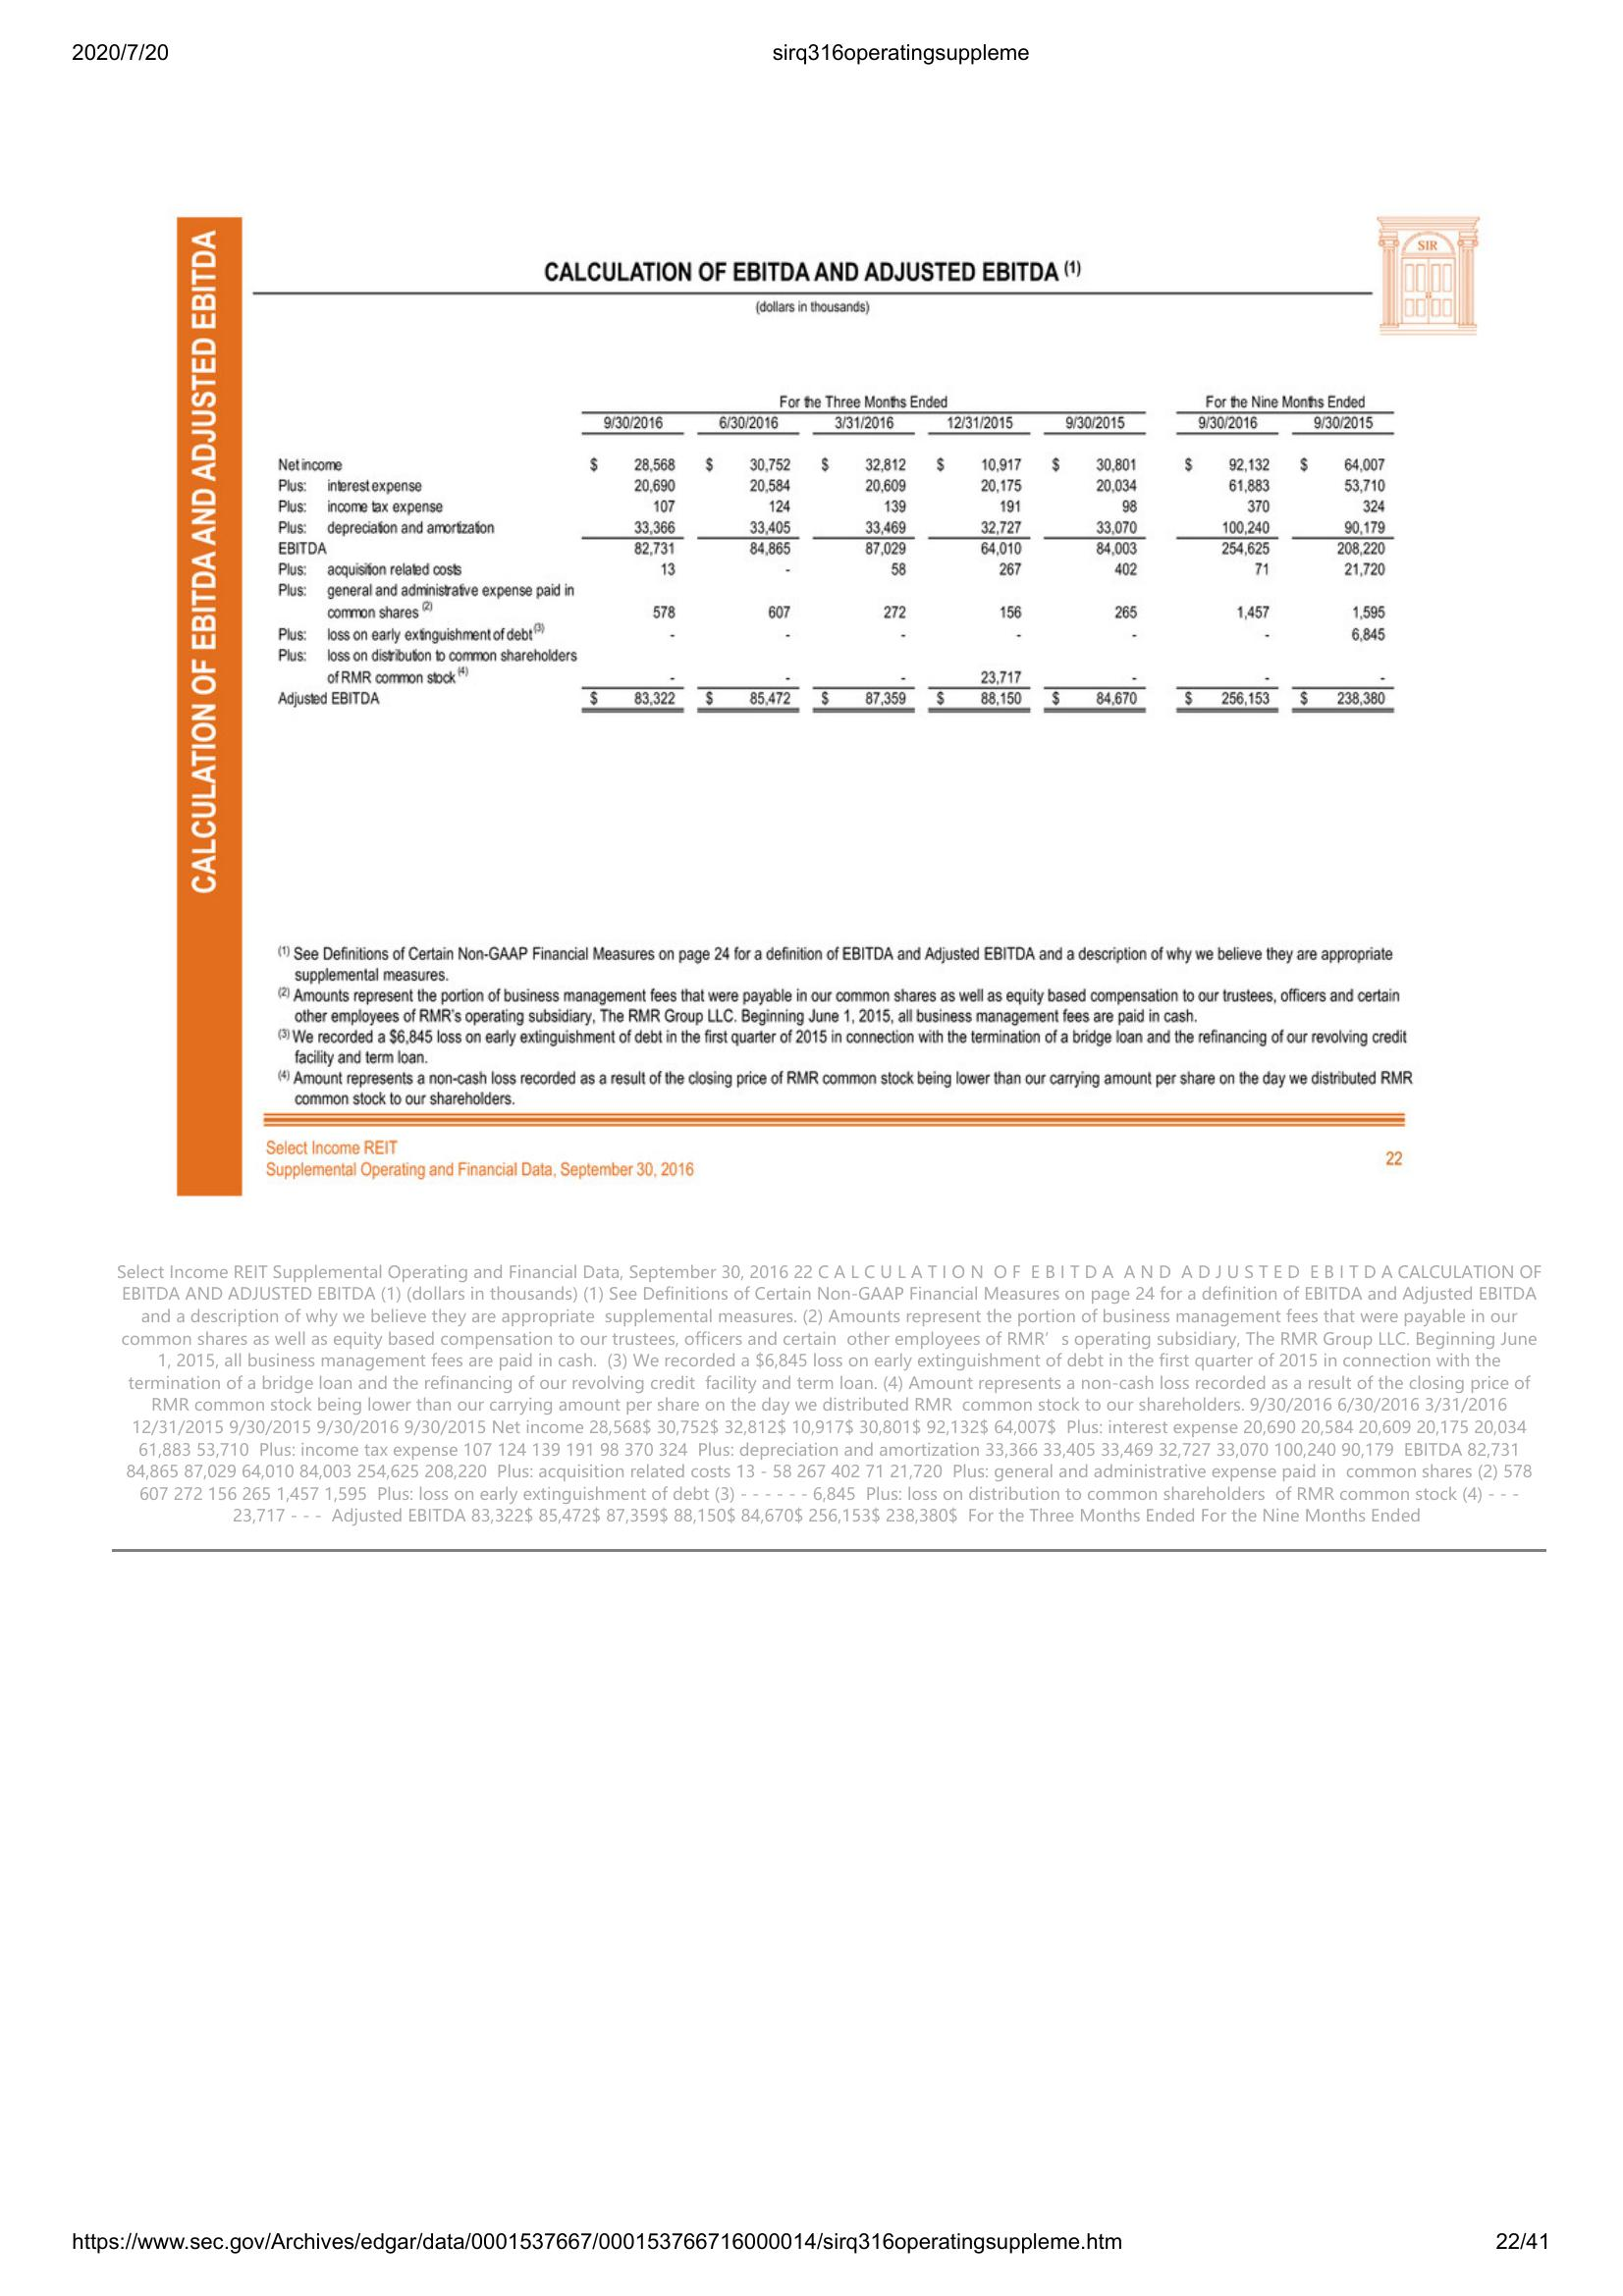table: (269, 388, 1400, 727)
